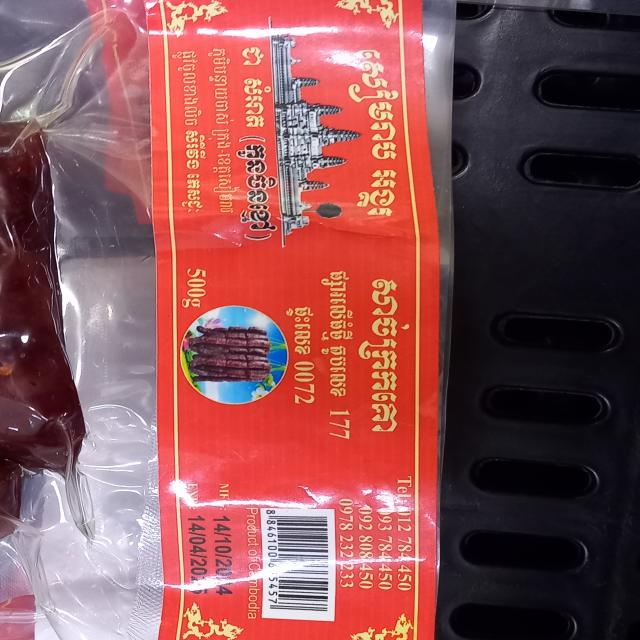1: (202, 43, 240, 214), (317, 264, 358, 399), (236, 43, 272, 130)
2: (166, 46, 212, 215)
212: (290, 360, 318, 408)
275: (396, 506, 413, 590)
439: (355, 505, 374, 593)
451: (377, 504, 395, 590)
481: (334, 496, 355, 589)
585: (183, 513, 210, 595)
586: (209, 513, 234, 597)
612: (322, 407, 355, 442)
776: (182, 263, 209, 298)
859: (262, 505, 282, 607)
Yolov11kh: (346, 43, 403, 220), (355, 271, 413, 437), (236, 143, 280, 232), (285, 303, 314, 354)
